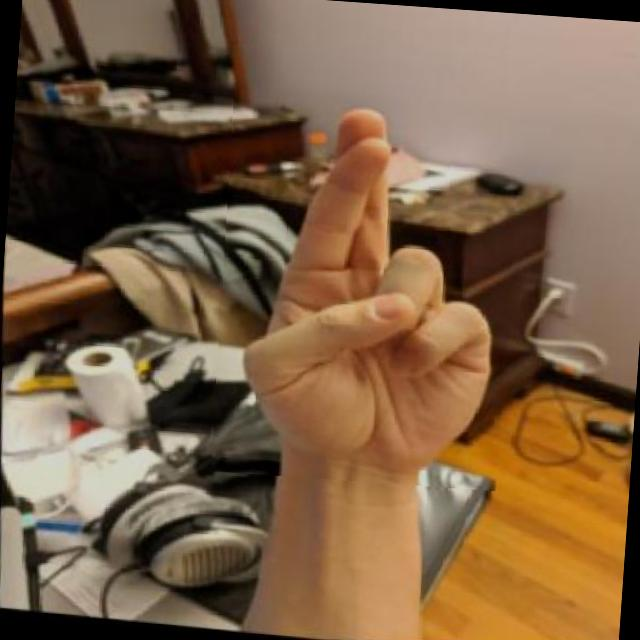R: (208, 88, 522, 490)
